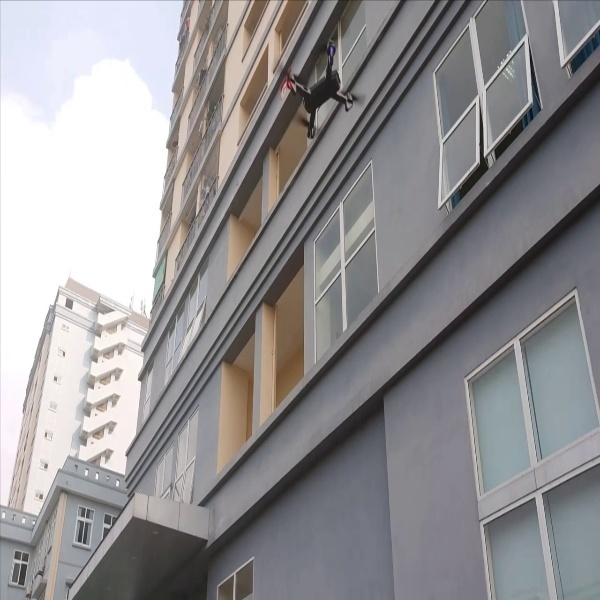drone: (263, 31, 373, 143)
